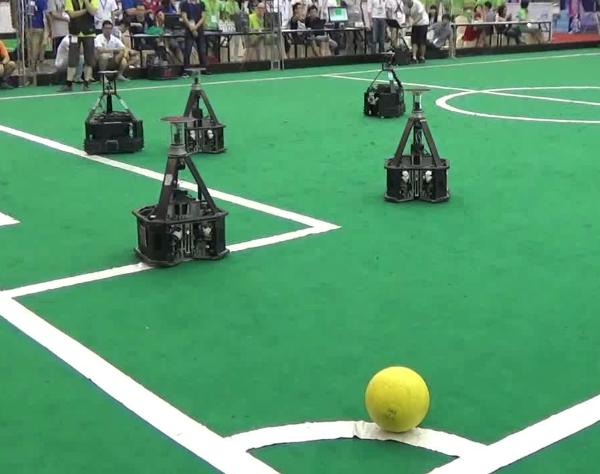robot: (129, 114, 230, 267), (381, 86, 455, 207), (165, 65, 231, 155), (79, 67, 146, 155), (361, 48, 406, 119)
